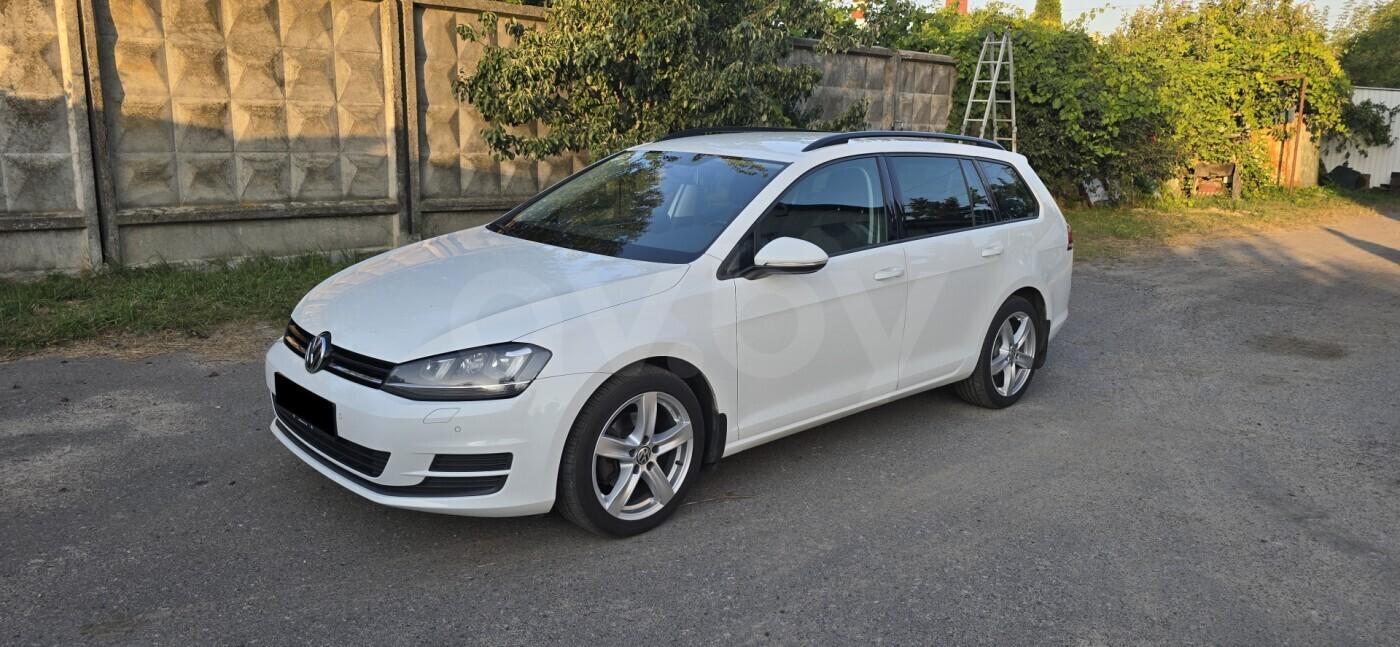Golf_2012-2017: (265, 121, 1088, 538)
